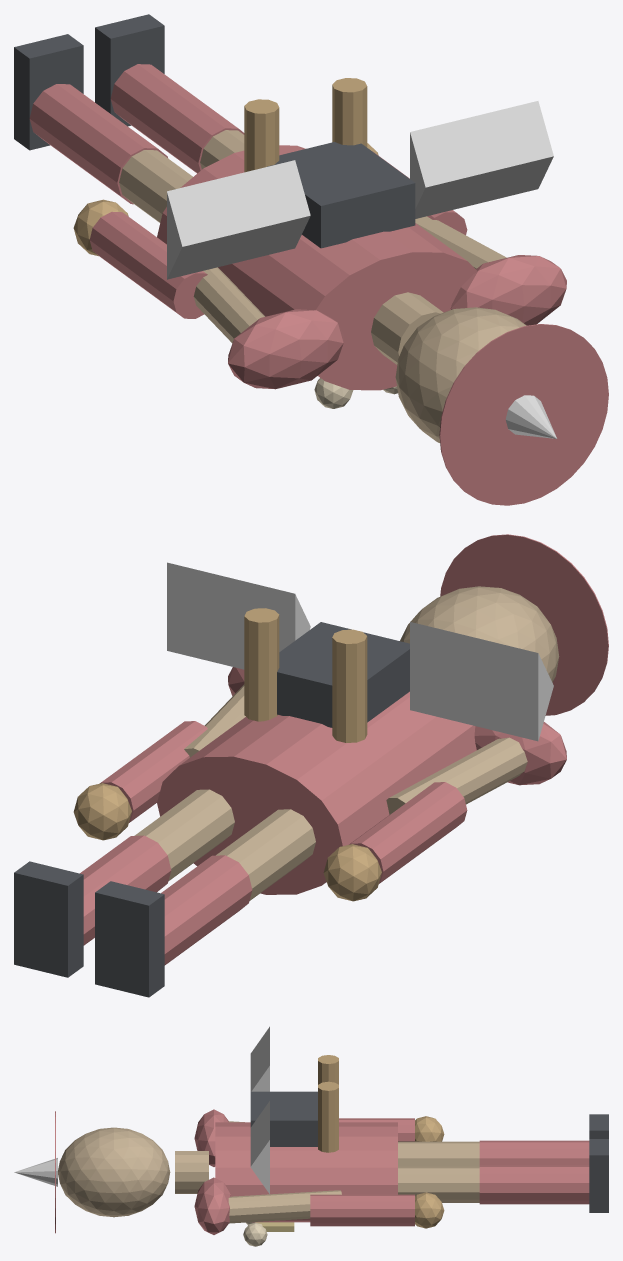
Rendered from SWN-041_fen_larkwire.glb.
3 views of the same model, one above another, from view 1: azimuth 30°, elevation 25°; view 2: azimuth 150°, elevation 25°; view 3: azimuth 270°, elevation 25° (orthographic). The views are drawn at different scales.
Parts seen in each view (by area): view 1: rank_halo_ring, body_spine, folded_wing_-1, folded_wing_1, back_thruster_pack, head, shoulder_plate_-1, greave_-1, greave_1, shoulder_plate_1, forearm_gauntlet_-1, boot_-1 (+11 smaller); view 2: body_spine, rank_halo_ring, folded_wing_-1, folded_wing_1, back_thruster_pack, boot_-1, boot_1, head, greave_-1, forearm_gauntlet_-1, thigh_1, thigh_-1 (+9 smaller); view 3: body_spine, head, greave_1, forearm_gauntlet_1, back_thruster_pack, greave_-1, thigh_1, upper_arm_1, thigh_-1, shoulder_plate_1, boot_1, aether_thruster_1 (+12 smaller).
Part boxes in pixels (box(x1,y1,x2,y2)): rank_halo_ring: box(439, 324, 608, 505); body_spine: box(157, 145, 476, 390); folded_wing_-1: box(167, 160, 310, 279); folded_wing_1: box(410, 101, 553, 218); back_thruster_pack: box(267, 142, 415, 248); head: box(395, 307, 526, 442); shoulder_plate_-1: box(228, 309, 343, 389); greave_-1: box(29, 84, 167, 204); greave_1: box(110, 64, 244, 173); shoulder_plate_1: box(450, 255, 566, 325); forearm_gauntlet_-1: box(89, 211, 207, 318); boot_-1: box(14, 34, 83, 150); body_spine: box(157, 691, 476, 894); rank_halo_ring: box(440, 534, 608, 715); folded_wing_-1: box(410, 622, 553, 741); folded_wing_1: box(167, 562, 310, 669); back_thruster_pack: box(277, 622, 409, 727); boot_-1: box(95, 881, 164, 997); boot_1: box(14, 861, 83, 977); head: box(400, 586, 559, 682); greave_-1: box(161, 855, 252, 965); forearm_gauntlet_-1: box(350, 782, 467, 883); thigh_1: box(134, 789, 234, 881); thigh_-1: box(216, 809, 315, 900); body_spine: box(215, 1122, 397, 1222); head: box(58, 1127, 170, 1217); greave_1: box(479, 1165, 589, 1204); forearm_gauntlet_1: box(310, 1194, 414, 1226); back_thruster_pack: box(250, 1091, 317, 1146); greave_-1: box(479, 1140, 589, 1165); thigh_1: box(398, 1166, 479, 1202); upper_arm_1: box(228, 1190, 341, 1223); thigh_-1: box(398, 1141, 479, 1166); shoulder_plate_1: box(194, 1177, 230, 1234); boot_1: box(589, 1139, 608, 1212); aether_thruster_1: box(318, 1081, 338, 1152).
Bounding box in the file's own units: 1.1 × 0.74 × 2.44.
